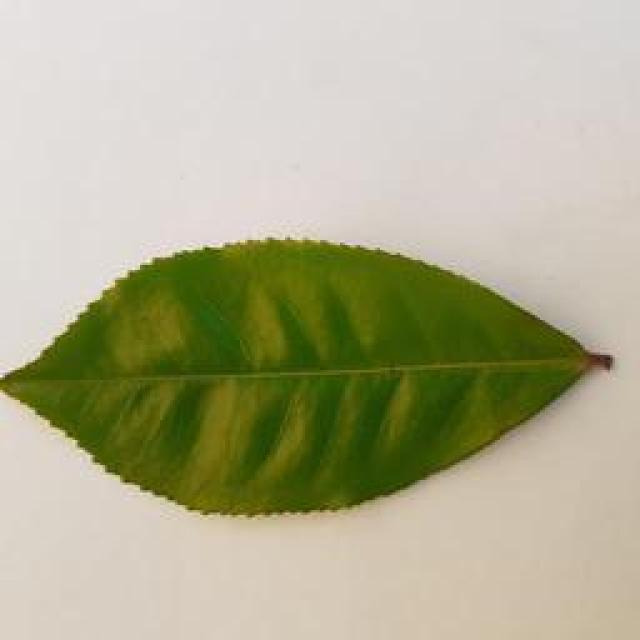Healthy: (7, 230, 640, 517)
